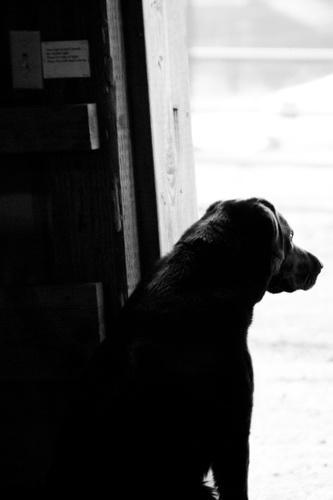dog: (1, 198, 323, 500)
